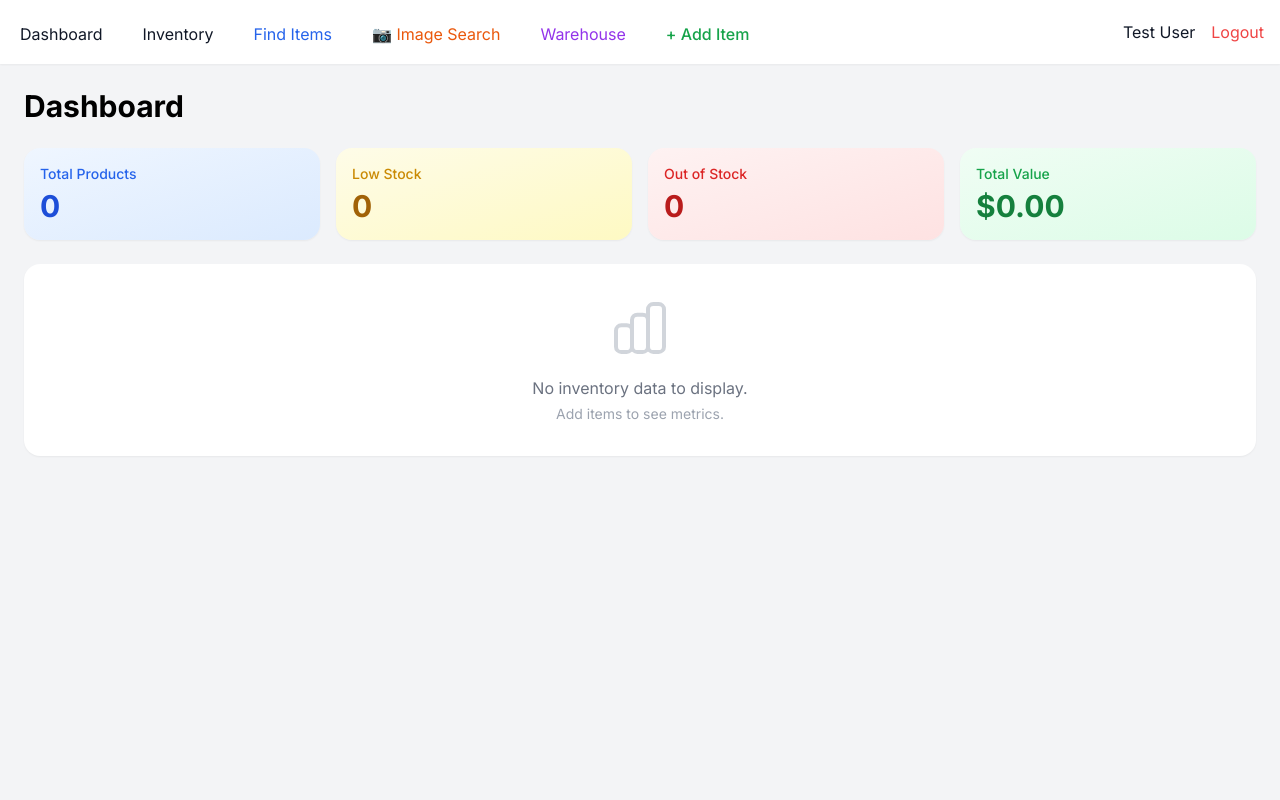
logout › the nav shows the stored user and its Logout clears the session
Expected: the link "Test User" is shown, [1123, 20, 1195, 44]
Click the button "Logout". click: (1238,32)
box: [1211, 20, 1264, 44]
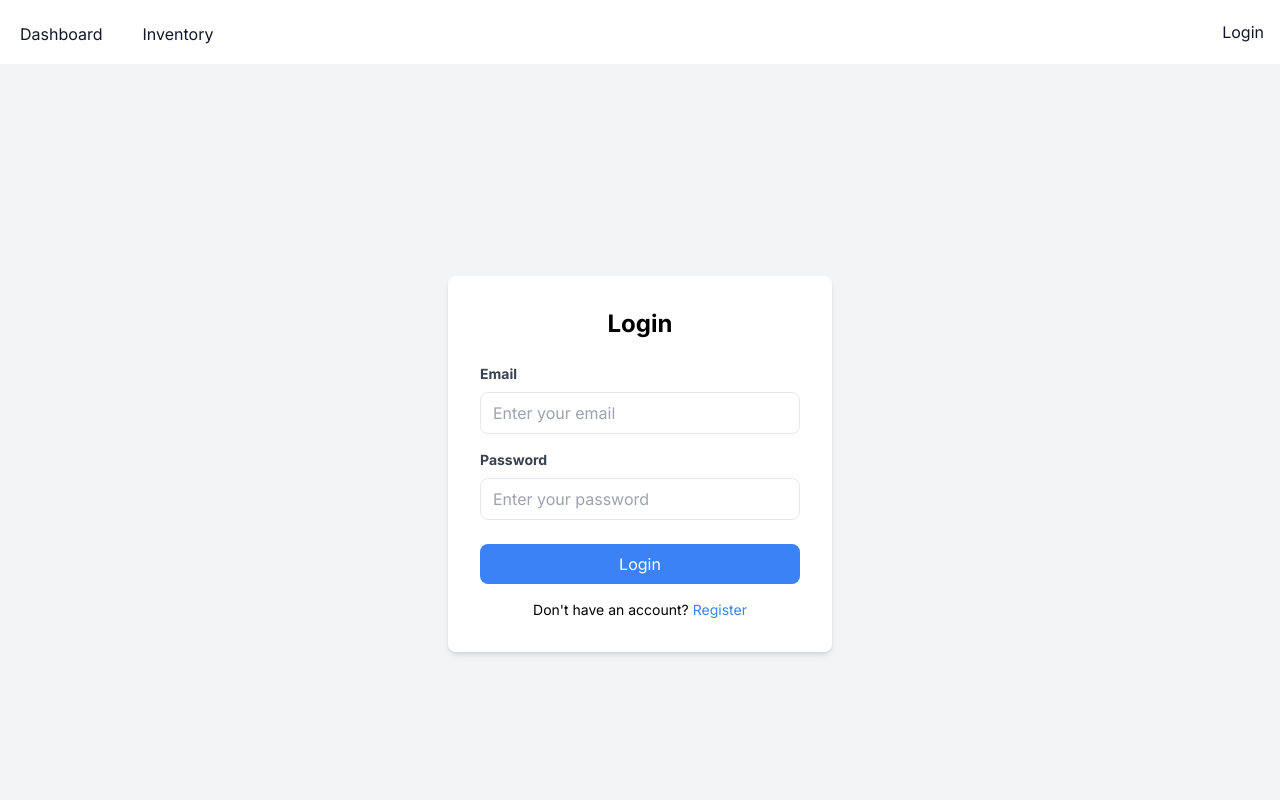
Now the link "Login" is shown, box [1222, 20, 1264, 44]
Now the button "Logout" is gone
